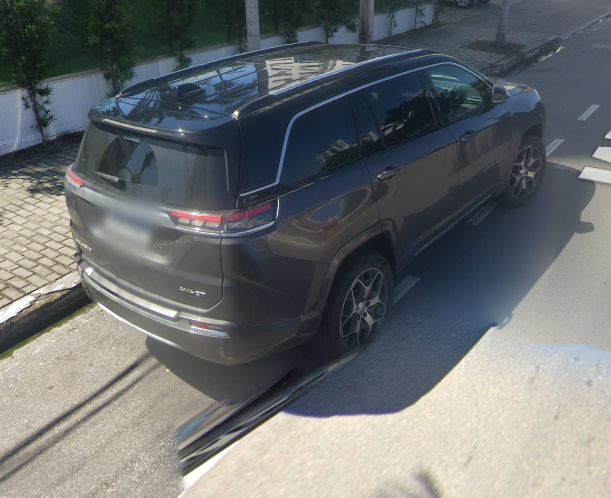car: (62, 38, 550, 369)
